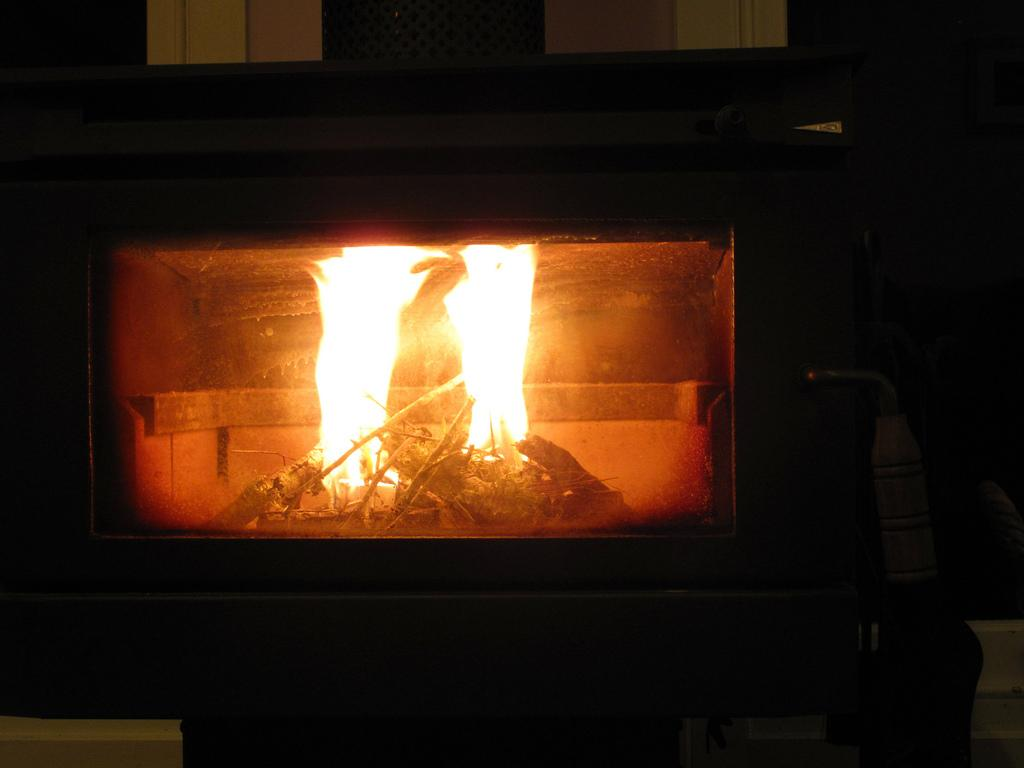fire: (452, 238, 552, 444), (316, 252, 396, 476)
